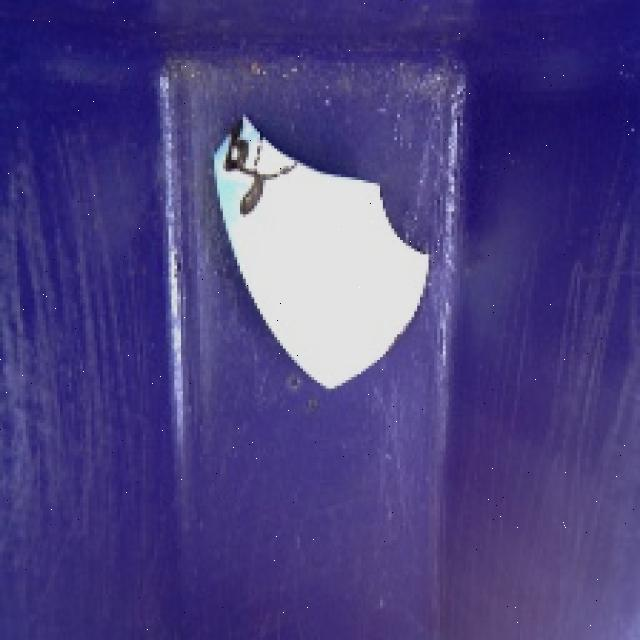china: (199, 109, 440, 400)
